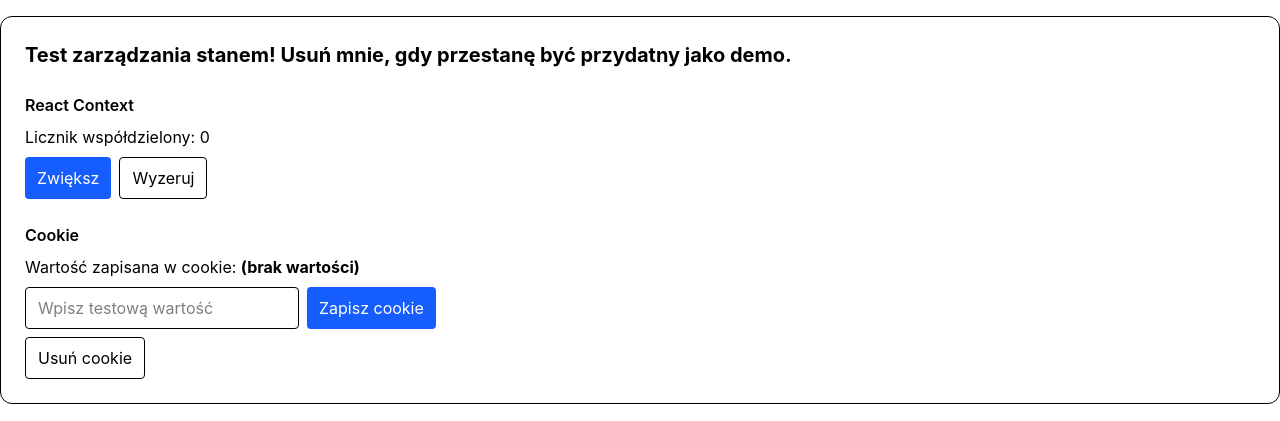
Test case: React Context — licznik › zwiększa licznik po kliknięciu przycisku
Click the button "Zwiększ" at (68, 178), box left=25, top=157, right=111, bottom=199
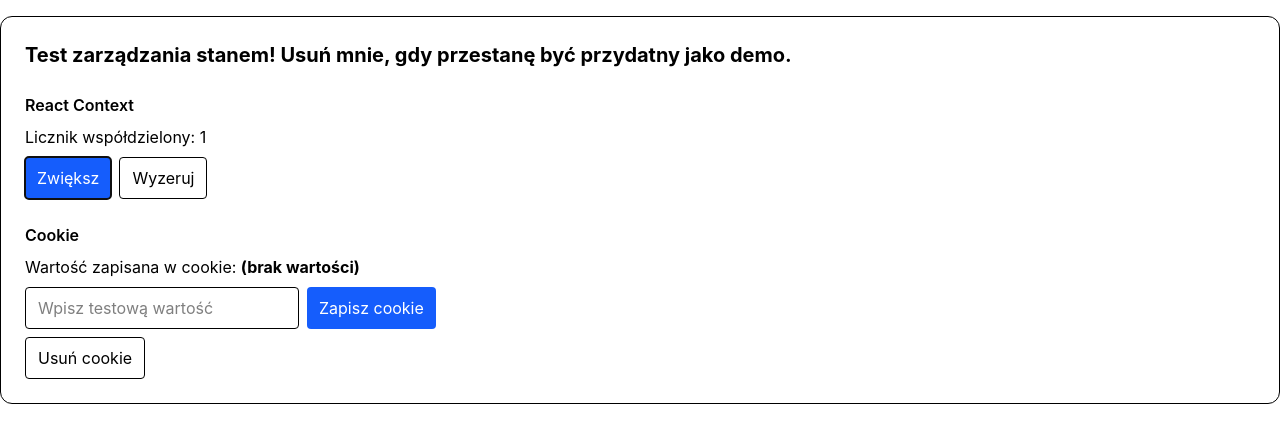
Check: the text "Licznik współdzielony: 1" is shown, box left=25, top=127, right=206, bottom=147
